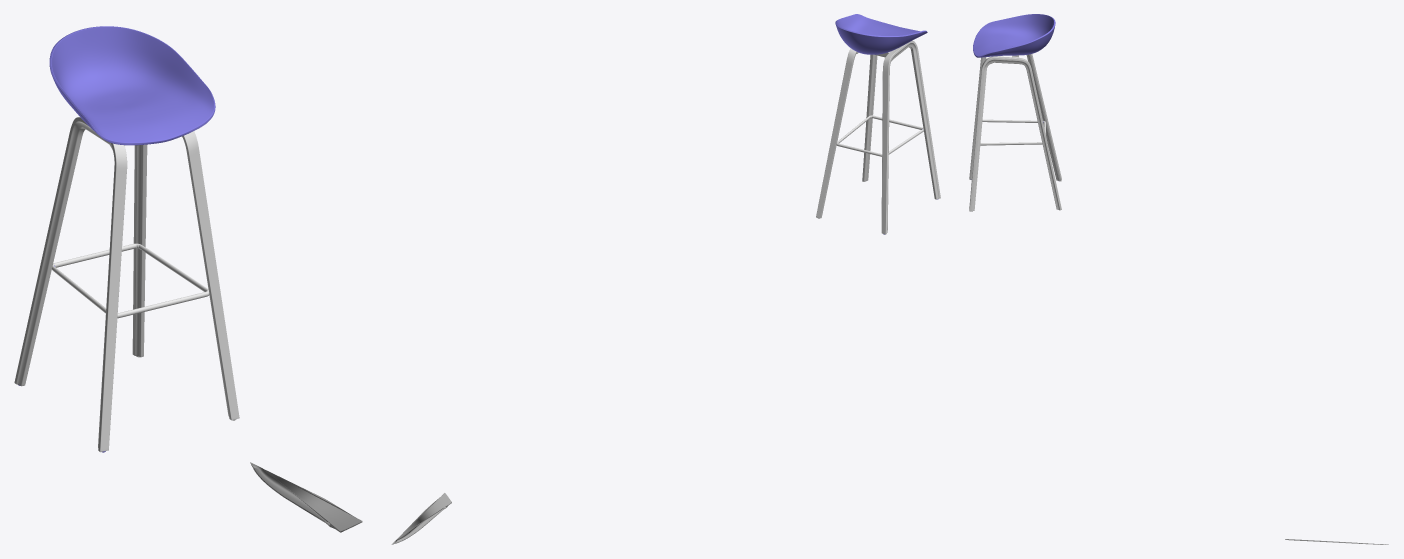
The model's file is chair.fbx.
3 views of the same model, side by side, from view 1: azimuth 30°, elevation 25°; view 2: azimuth 150°, elevation 25°; view 3: azimuth 270°, elevation 25° (orthographic). The views are drawn at different scales.
Visible parts, largest first — view 1: HAY_BARSTOOL001.001, HAY_BARSTOOL001, Lame; view 2: HAY_BARSTOOL001.001, HAY_BARSTOOL001, Lame; view 3: HAY_BARSTOOL001.001, HAY_BARSTOOL001.
Part boxes in pixels (box(x1,y1,x2,y2)): HAY_BARSTOOL001.001: box(14, 117, 239, 452); HAY_BARSTOOL001: box(18, 26, 215, 452); Lame: box(250, 462, 362, 532); HAY_BARSTOOL001.001: box(816, 40, 940, 234); HAY_BARSTOOL001: box(835, 14, 938, 234); Lame: box(391, 493, 451, 544); HAY_BARSTOOL001.001: box(969, 54, 1061, 211); HAY_BARSTOOL001: box(970, 14, 1055, 179).
Size of the model in its own units: 8007 by 10624 by 10089.
